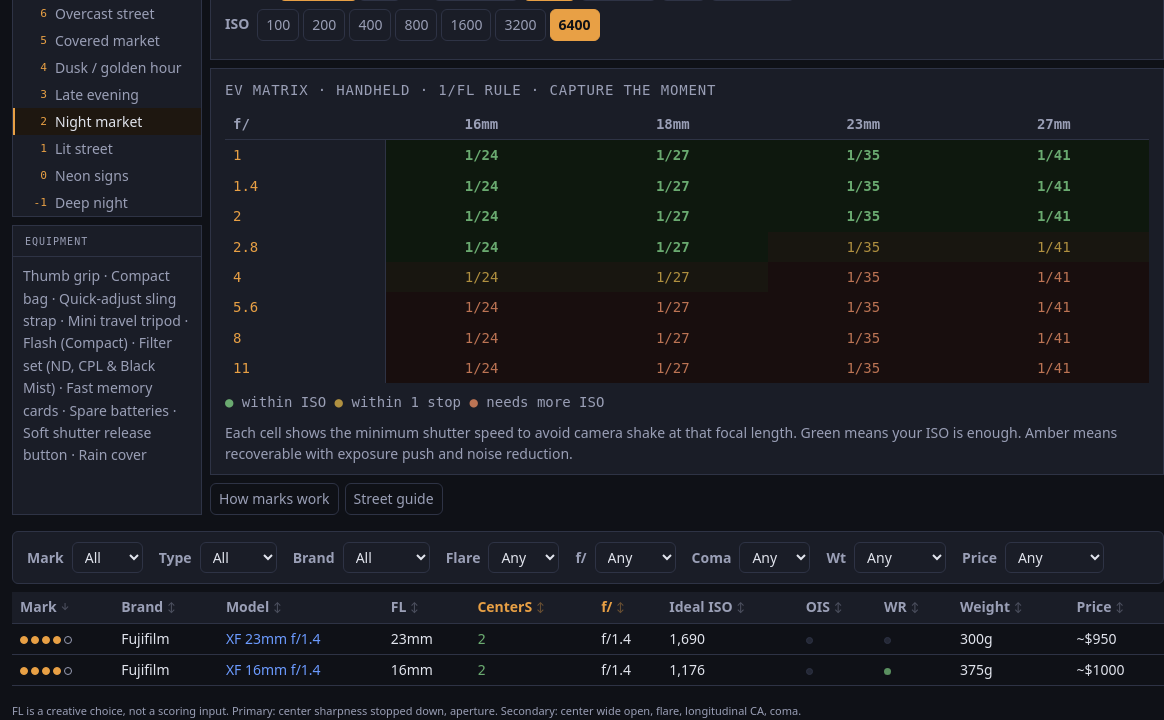
GenreGuide › filters by mark threshold
(page scrolled)
Expected: the link "XF 23mm f/1.4" is shown, [226,629,321,648]
Select "≥ 5" in the dropdown named "Mark": (107, 558) [72,542,143,573]
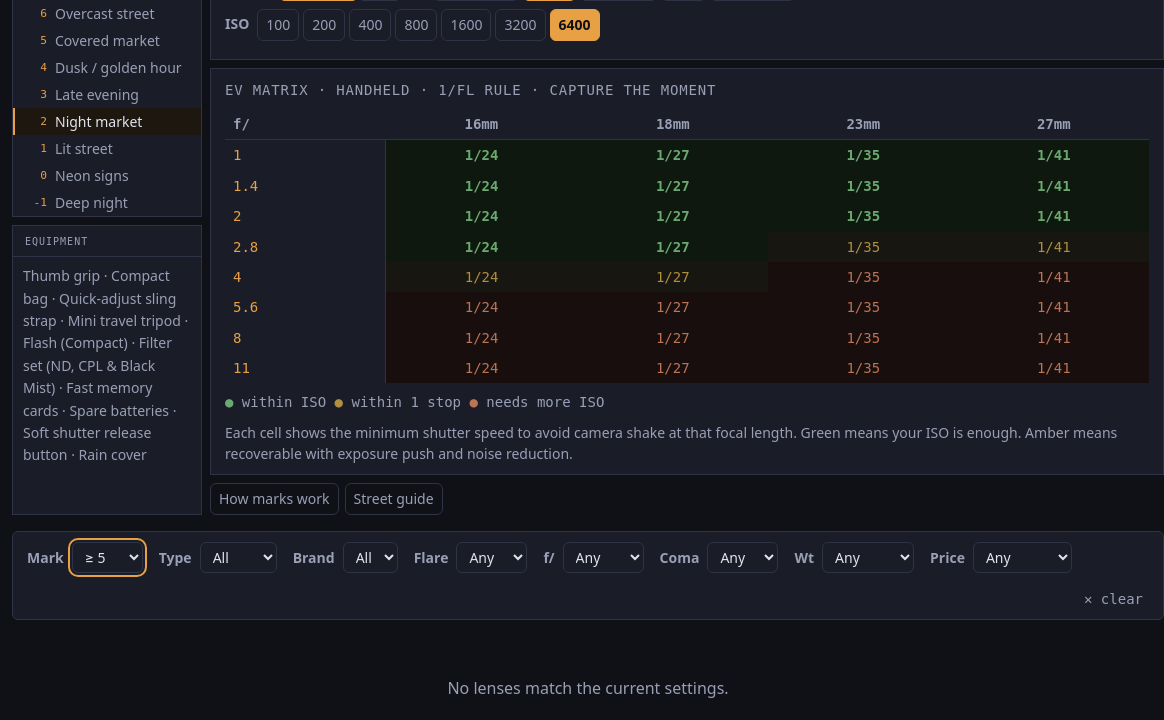
Expected: the link "XF 23mm f/1.4" is gone
Expected: the link "XF 16mm f/1.4" is gone
